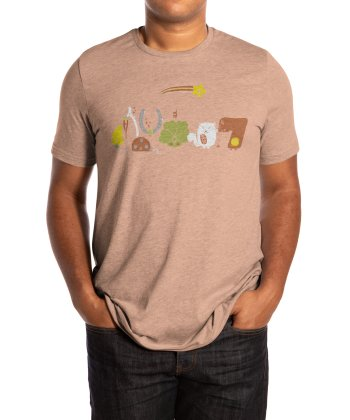design: (106, 80, 250, 158)
